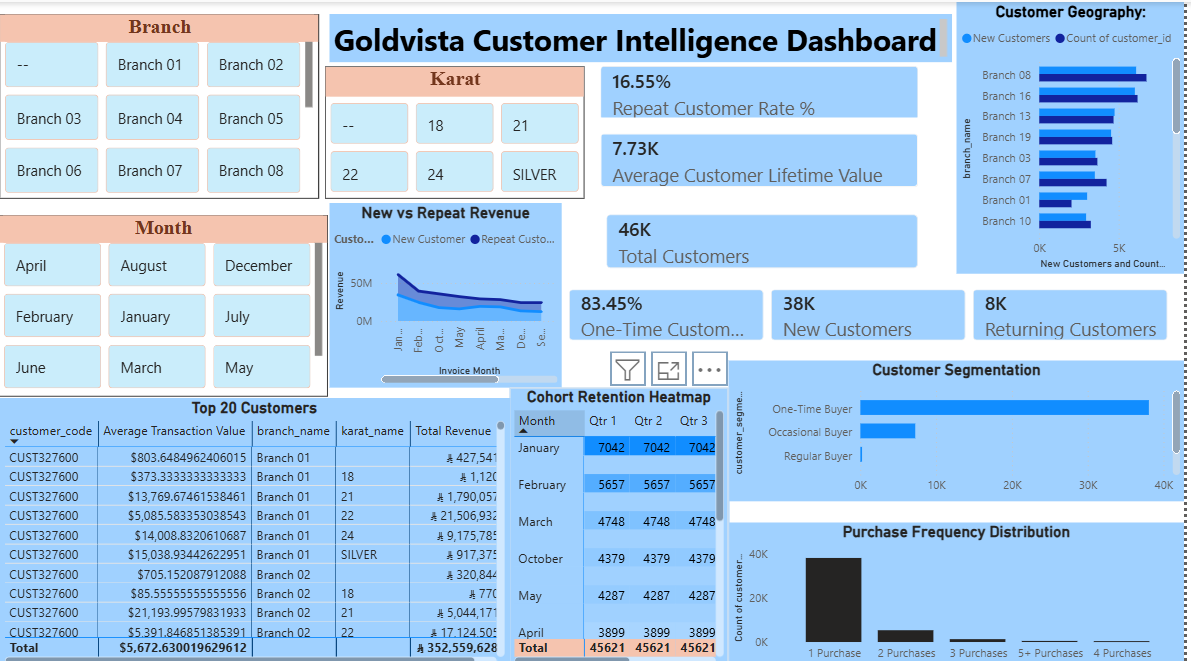

The page's visual inventory and layout, read from the dashboard file:
{"tool":"powerbi","page":{"name":"Customer Analytics","canvas":[1280,720],"ordinal":3},"visuals":[{"type":"cardVisual","fields":{"Data":["Date.Total Customers"]},"box":[639.6,212.1,370.8,92.3],"z":0},{"type":"cardVisual","fields":{"Data":["Date.One-Time Customer Rate %","Customer Purchase Distribution.New Customers","Customer Purchase Distribution.Returning Customers"]},"box":[599.1,293.1,681.7,89.1],"z":1000},{"type":"cardVisual","fields":{"Data":["Date.Repeat Customer Rate %"]},"box":[633.1,51.8,377.3,93.9],"z":2000},{"type":"barChart","title":"Customer Segmentation","fields":{"Category":["public customer_segments.customer_segment"],"Y":["CountNonNull(public customer_segments.customer_id)"]},"box":[788.6,387,492.2,152.2],"z":3000},{"type":"clusteredColumnChart","title":"Purchase Frequency Distribution","fields":{"Category":["Customer Purchase Distribution.Purchase Category"],"Y":["CountNonNull(Customer Purchase Distribution.customer_id)"]},"box":[788.6,561.9,492.2,158.7],"z":4000},{"type":"textbox","box":[357.8,13,672,51.8],"z":5000},{"type":"advancedSlicerVisual","title":"Branch","fields":{"Values":["public dim_branch.branch_name"]},"box":[1.6,13,344.9,199.2],"z":6000},{"type":"advancedSlicerVisual","title":"Month ","fields":{"Values":["Date.Month Name"]},"box":[0,229.9,356.2,195.9],"z":7000},{"type":"cardVisual","fields":{"Data":["Date.Customer Lifetime Value"]},"box":[633.1,124.7,377.3,92.3],"z":8000},{"type":"advancedSlicerVisual","title":"Karat","fields":{"Values":["public dim_karat.karat_name"]},"box":[353,69.6,280.1,142.5],"z":9000},{"type":"stackedAreaChart","title":"New vs Repeat Revenue","fields":{"Series":["public customer_segments.Customer Type"],"Y":["Customer Purchase Distribution.Revenue"],"Category":["public fact_sales.Invoice Month"]},"box":[357.8,217,251,199.2],"z":10000},{"type":"pivotTable","title":"Cohort Retention Heatmap","fields":{"Values":["Customer Purchase Distribution.Retained Customers"],"Rows":["Date.Date.Variation.Date Hierarchy.Month"],"Columns":["Customer First Purchase.First Purchase Date.Variation.Date Hierarchy.Quarter"]},"box":[552.2,416.1,236.4,304.4],"z":11000},{"type":"tableEx","title":"Top 20 Customers","fields":{"Values":["public dim_customer.customer_code","Date.Average Transaction Value","public dim_branch.branch_name","public dim_karat.karat_name","Date.Total Revenue"]},"box":[1.6,427.5,550.5,293.1],"z":12000},{"type":"clusteredBarChart","title":"Customer Geography:","fields":{"Category":["public dim_branch.branch_name"],"Y":["Customer Purchase Distribution.New Customers","Count(Customer First Purchase.customer_id)"]},"box":[1034.7,0,246.1,293.1],"z":13000}]}

Visuals, with their boxes in screenshot pixels (x1, y1, x2, y2), scaled from the page's 1280x720 canvas onto the 1191x661 screenshot:
cardVisual - Date.Total Customers: box(595, 195, 940, 279)
cardVisual - Date.One-Time Customer Rate % x Customer Purchase Distribution.New Customers: box(557, 269, 1190, 351)
cardVisual - Date.Repeat Customer Rate %: box(589, 48, 940, 134)
"Customer Segmentation" barChart: box(734, 355, 1190, 495)
"Purchase Frequency Distribution" clusteredColumnChart: box(734, 516, 1190, 660)
textbox: box(333, 12, 958, 59)
"Branch" advancedSlicerVisual: box(1, 12, 322, 195)
"Month " advancedSlicerVisual: box(0, 211, 331, 391)
cardVisual - Date.Customer Lifetime Value: box(589, 114, 940, 199)
"Karat" advancedSlicerVisual: box(328, 64, 589, 195)
"New vs Repeat Revenue" stackedAreaChart: box(333, 199, 566, 382)
"Cohort Retention Heatmap" pivotTable: box(514, 382, 734, 660)
"Top 20 Customers" tableEx: box(1, 392, 514, 660)
"Customer Geography:" clusteredBarChart: box(963, 0, 1190, 269)
